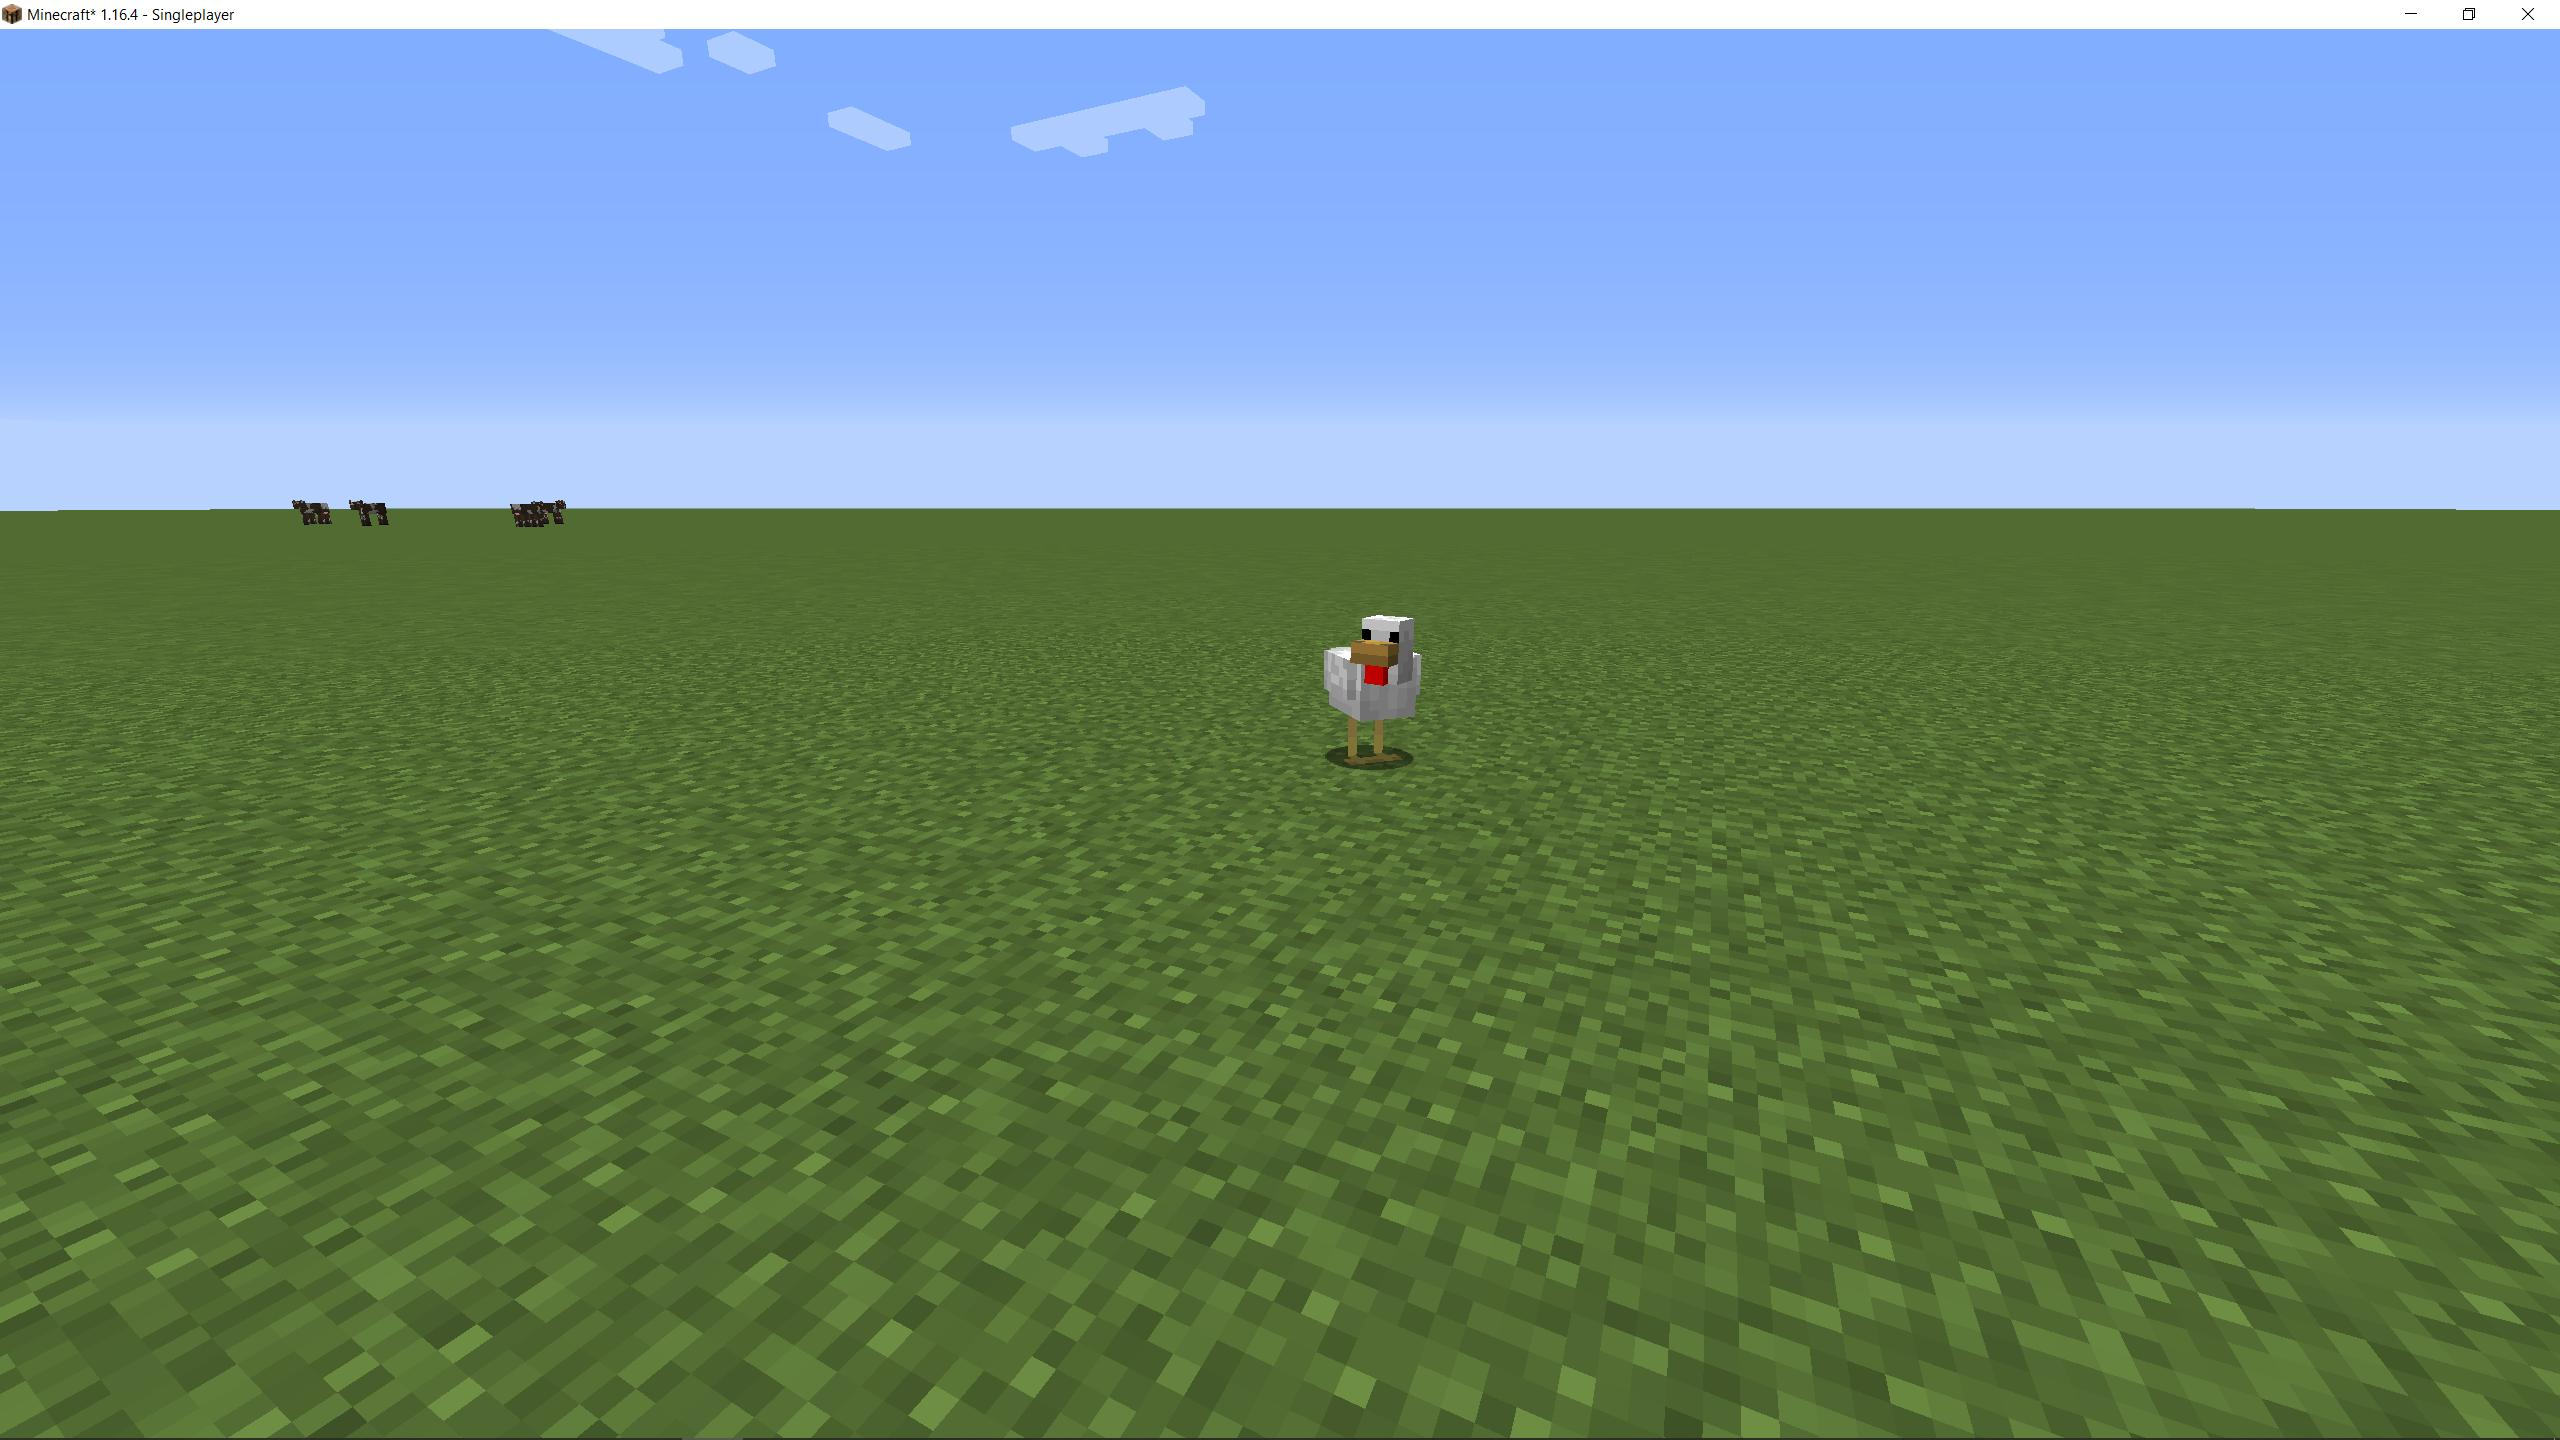chicken: (1320, 605, 1429, 774)
